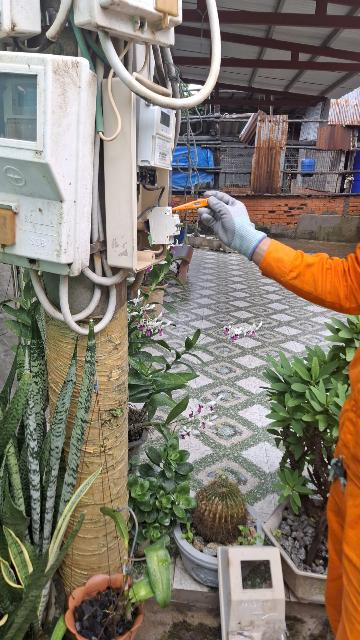gloves: (192, 181, 270, 260)
